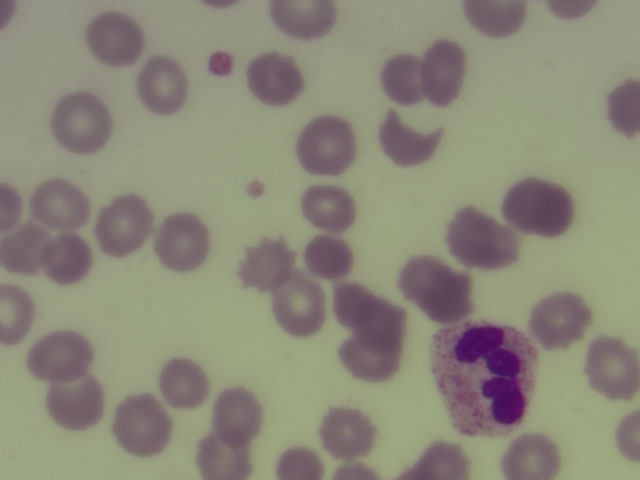Platelets: (204, 47, 236, 80), (242, 172, 273, 205)
RBC: (581, 332, 640, 405), (449, 208, 510, 272), (407, 260, 468, 324), (508, 175, 569, 239), (529, 290, 590, 354), (347, 280, 408, 344), (270, 273, 331, 337), (109, 395, 170, 459), (42, 368, 103, 432), (298, 115, 359, 179), (149, 209, 210, 273), (94, 192, 155, 256), (51, 90, 112, 154), (132, 51, 193, 115), (378, 109, 443, 166), (26, 328, 96, 380), (207, 385, 264, 445), (499, 430, 566, 480), (337, 338, 406, 386), (317, 404, 375, 461), (155, 356, 213, 412), (87, 9, 143, 67), (244, 52, 305, 104), (423, 35, 467, 107), (299, 184, 361, 234), (239, 234, 297, 287), (30, 180, 92, 228), (191, 433, 254, 480), (40, 232, 92, 285), (602, 74, 640, 146), (381, 54, 434, 105), (302, 233, 357, 281), (414, 436, 472, 480), (1, 224, 49, 277), (462, 1, 532, 36), (272, 1, 340, 37), (1, 280, 35, 348), (270, 443, 324, 480), (1, 180, 24, 231)
WBC: (429, 322, 545, 437)
